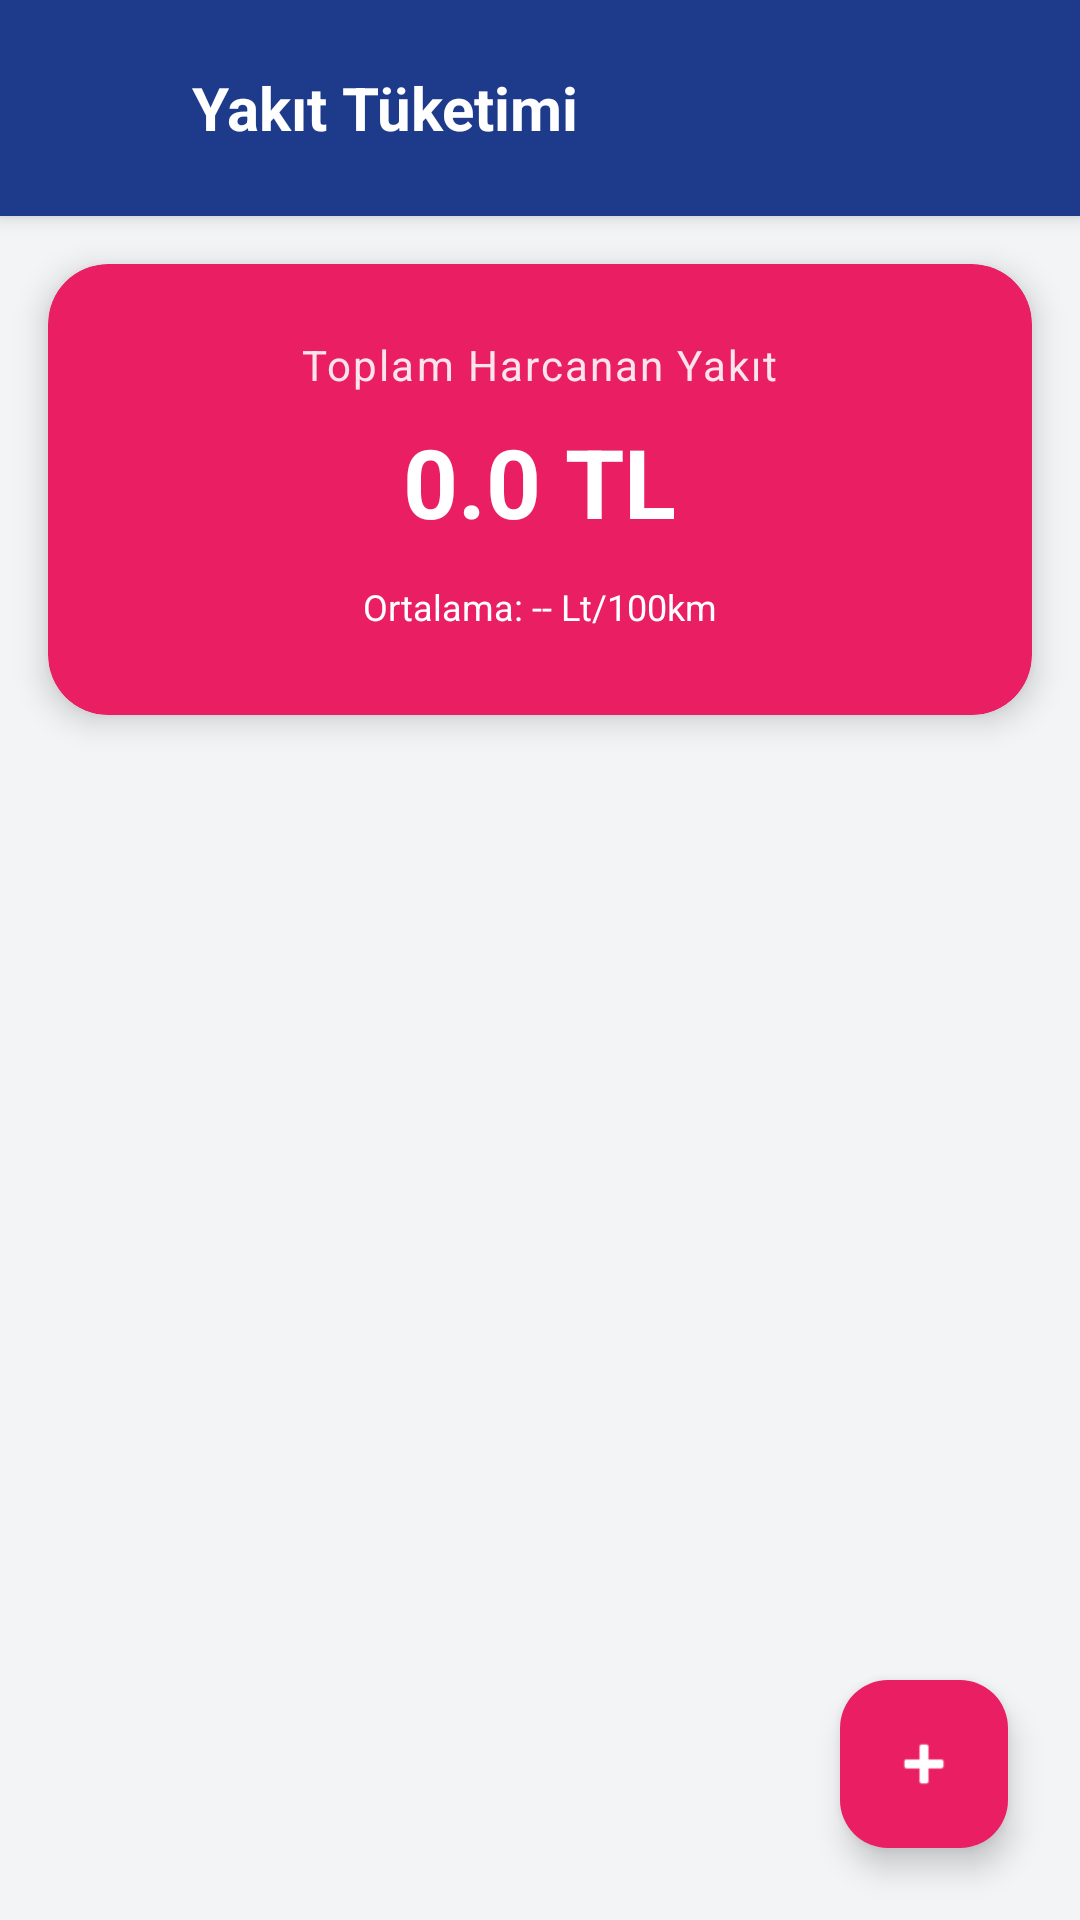

Locate icon controls on the screen. Image size 1080w x 1920h, boxes as BBox(x1, y1, x2, y2).
add: BBox(840, 1680, 1008, 1848)
